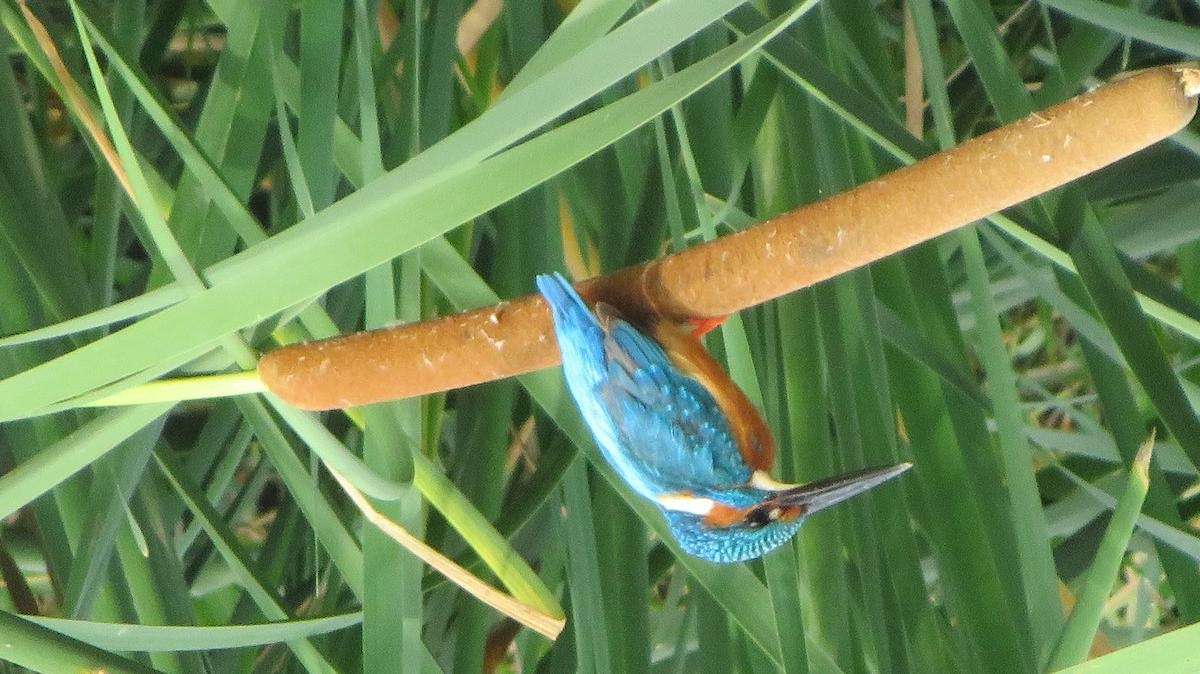kingfisher: (521, 268, 916, 585)
